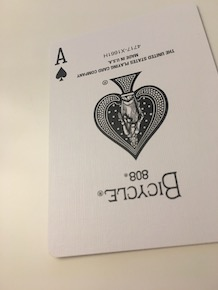AceOfSpades: (41, 4, 218, 260)
